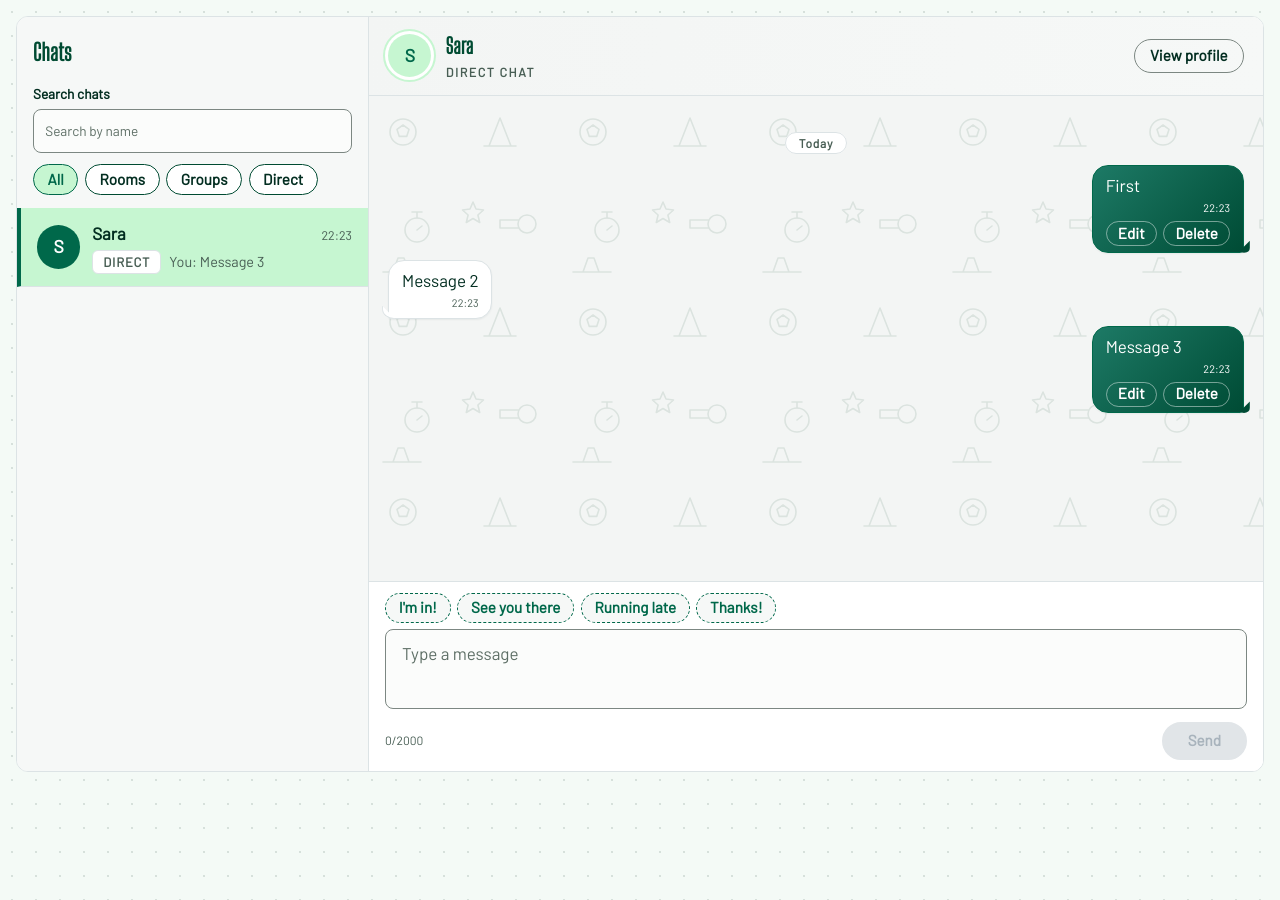
Test case: editing and deleting your own messages › closes without a request when nothing changed, and cancels without saving
Expected: the text "Message 3" is shown, [1106,336,1182,356]
Click the button named "Edit message" at (1131, 394), box [1106,382,1157,407]
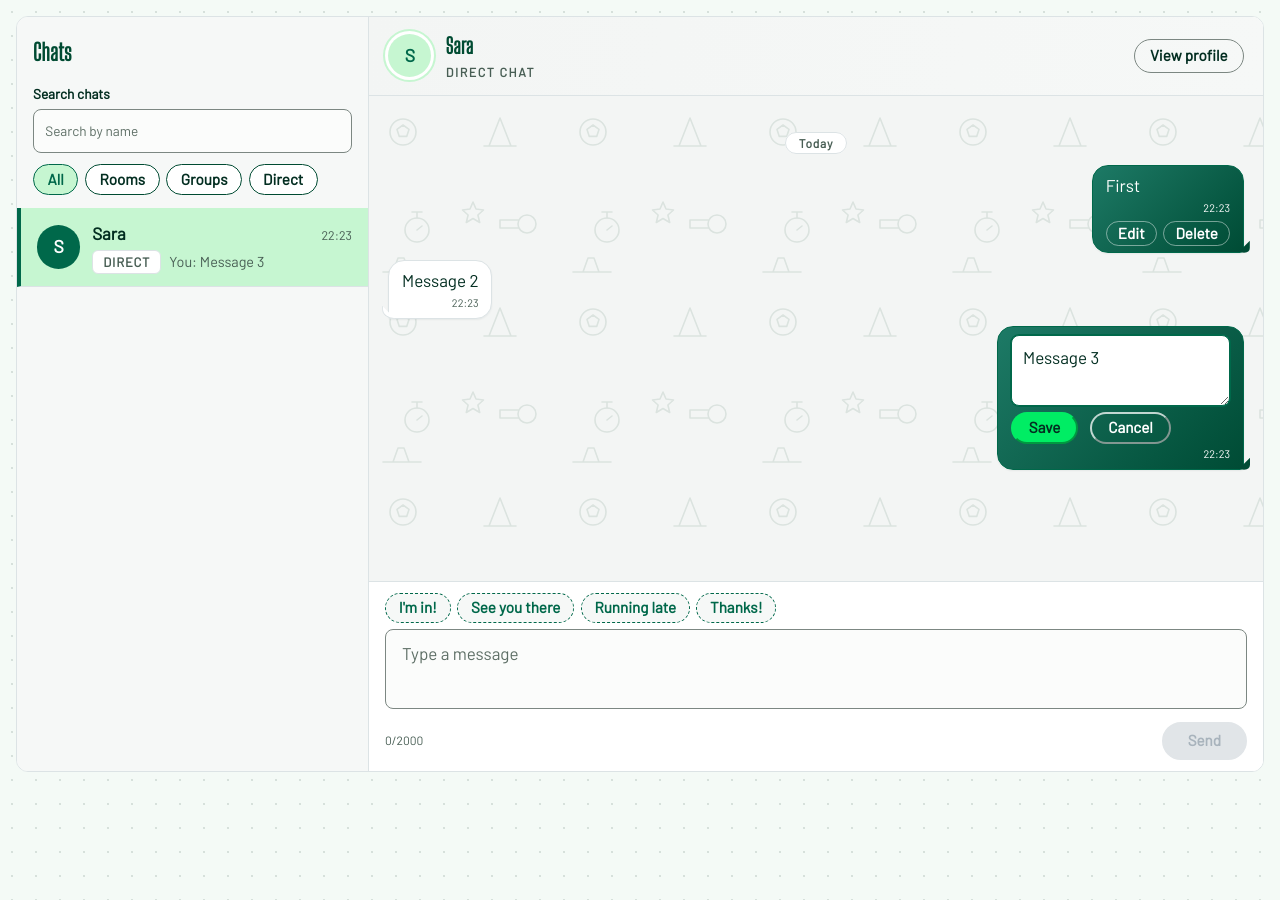
Click the button "Save" at (1044, 428), box [1011,412,1078,444]
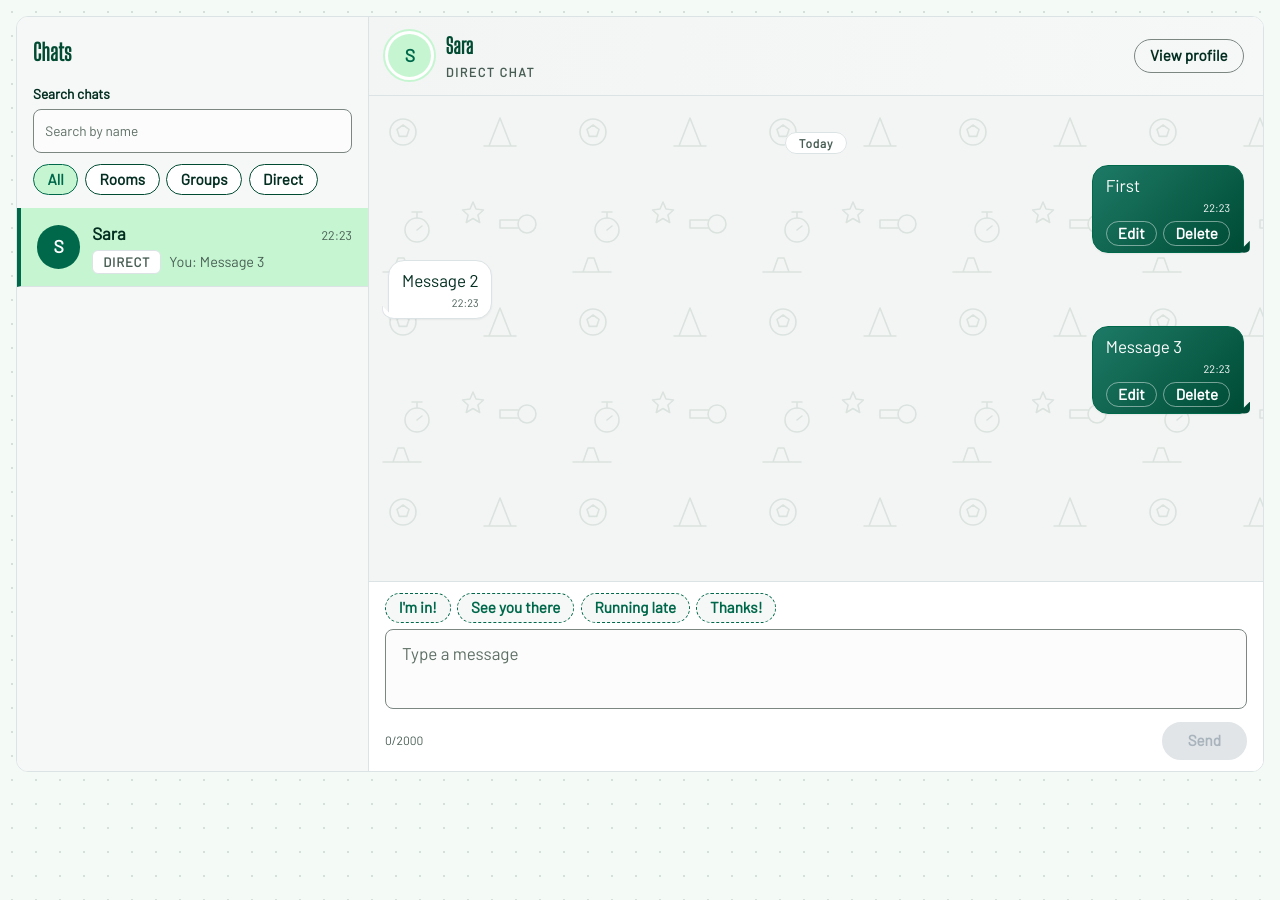
Click the button named "Edit message" at (1131, 394), box [1106,382,1157,407]
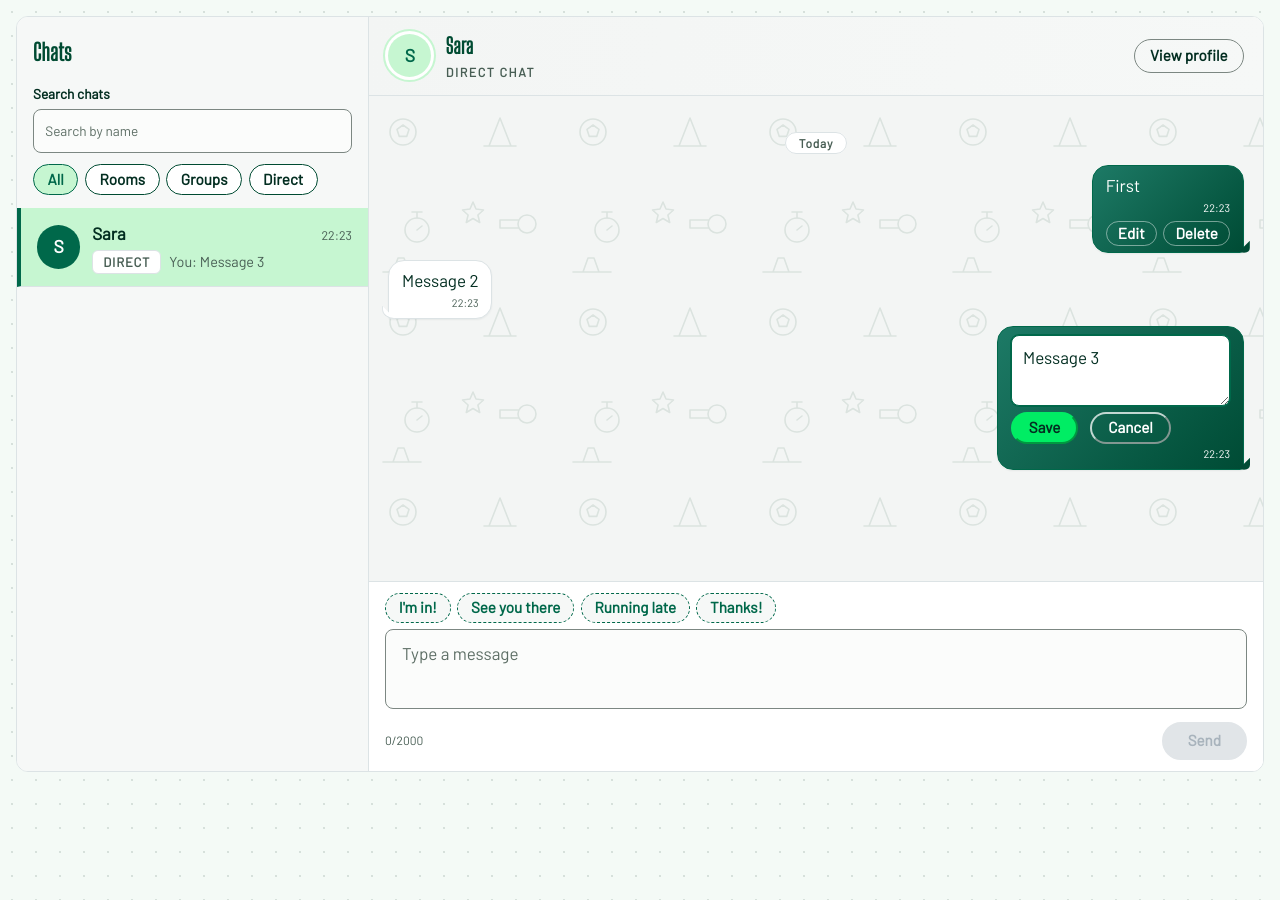
Type " more" into the text box named "Edit your message" at (1120, 370), box [1011,335,1230,406]
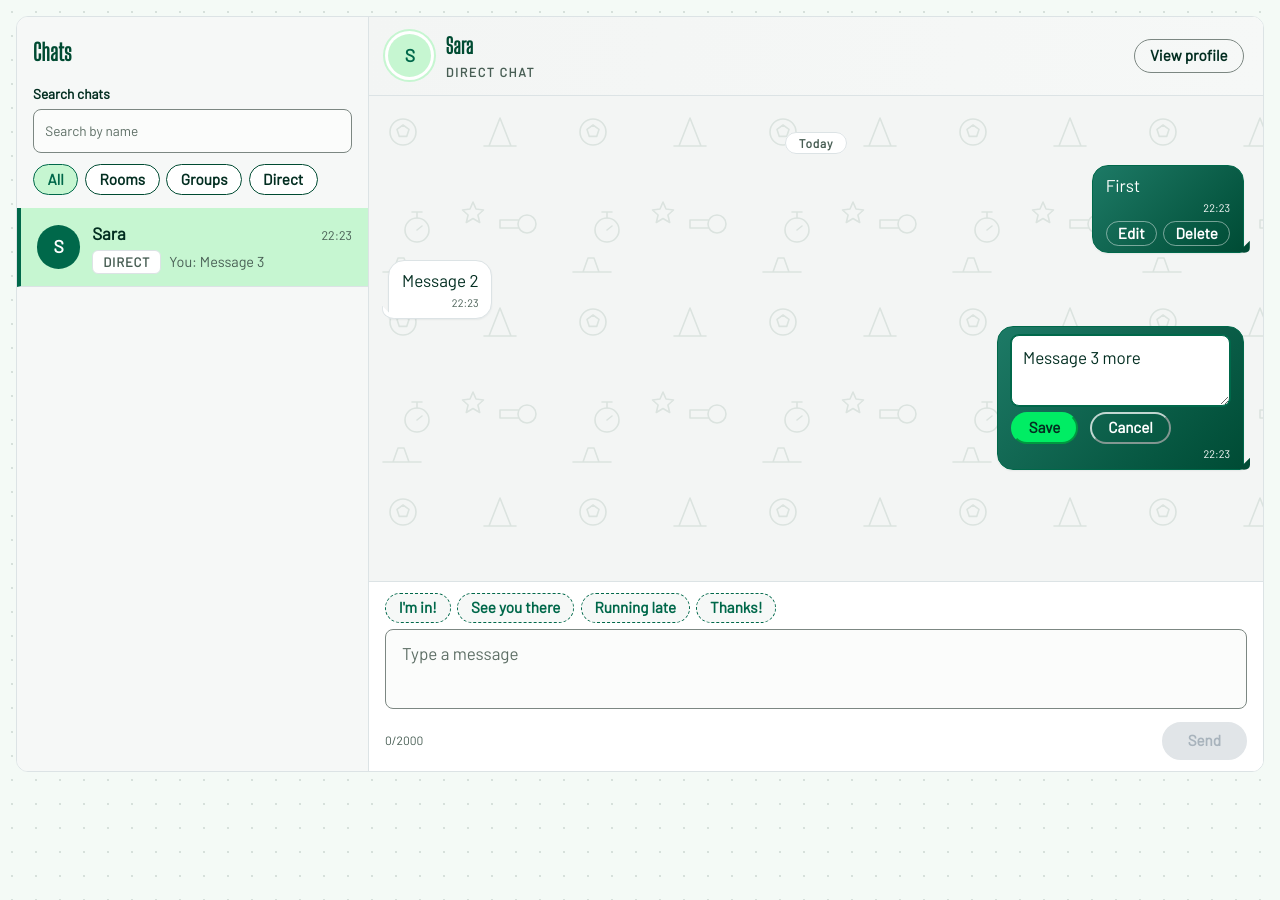
Click the button "Cancel" at (1130, 428), box [1090,412,1171,444]
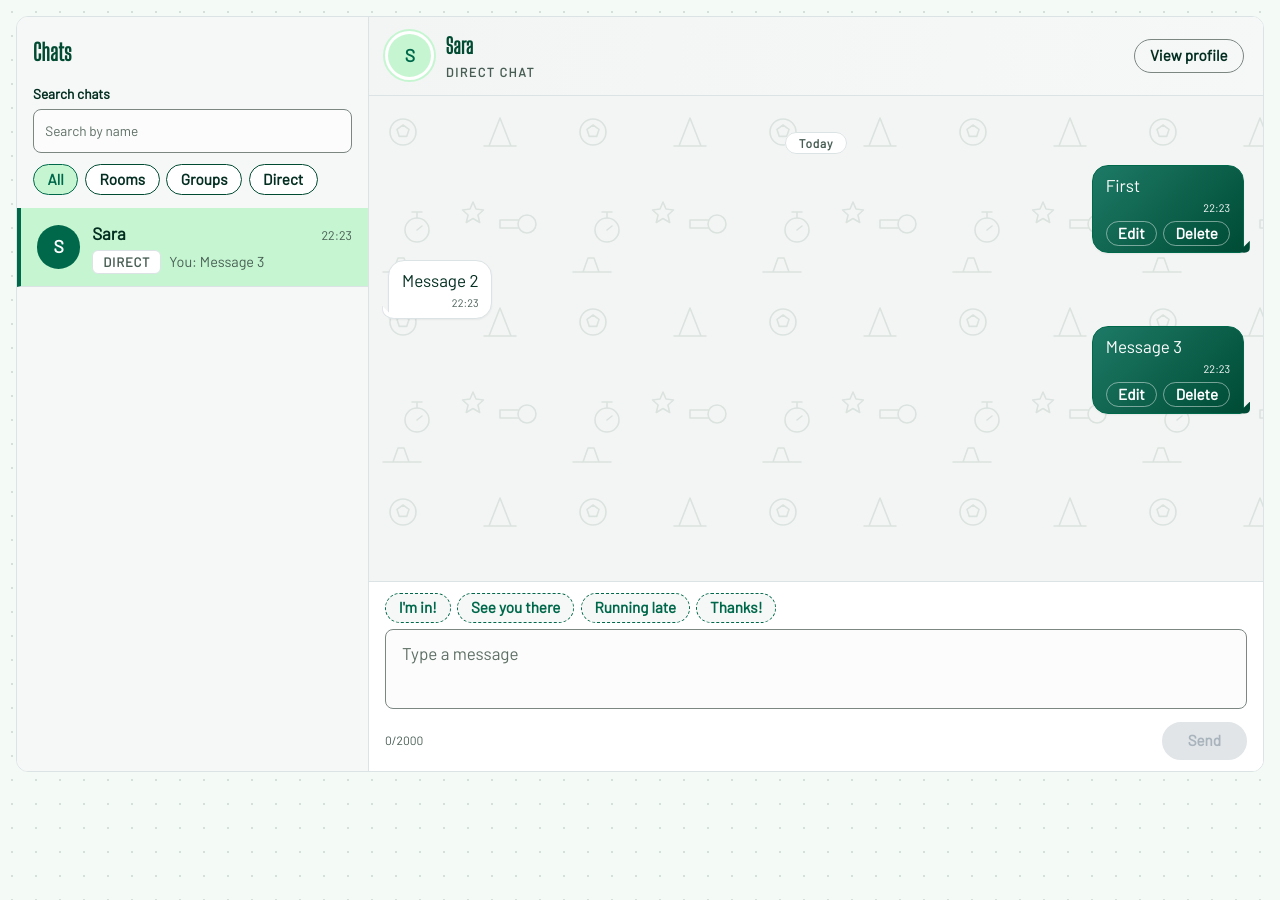
Now the text "Message 3" is shown, box [1106,336,1182,356]
